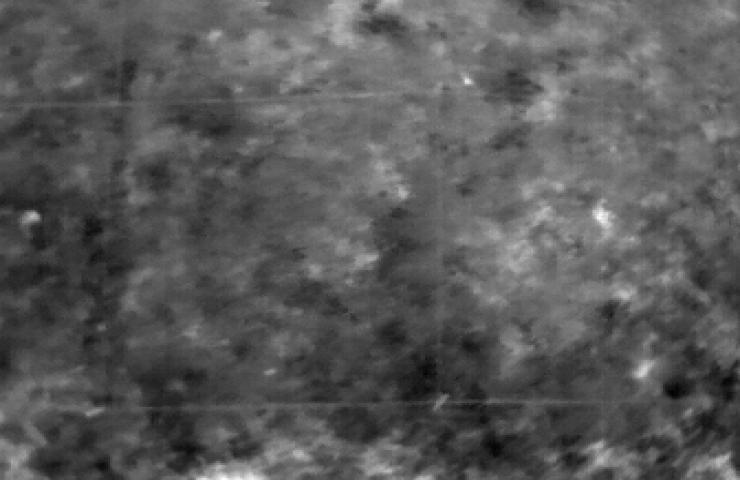landmines: (592, 196, 620, 228)
